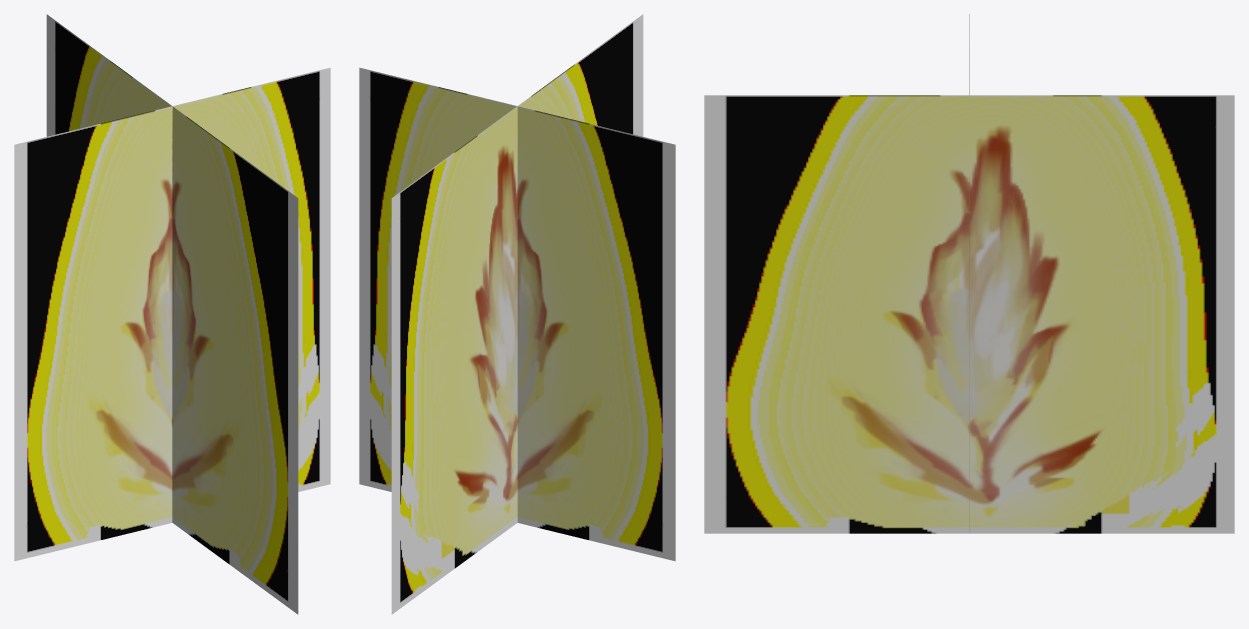
The model's file is FX_Shoot_2.FBX.
3 views of the same model, side by side, from view 1: azimuth 30°, elevation 25°; view 2: azimuth 150°, elevation 25°; view 3: azimuth 270°, elevation 25° (orthographic). The views are drawn at different scales.
Visible parts, largest first — view 1: Plane2; view 2: Plane2; view 3: Plane2.
Boxes of the visible parts, box(x1,y1,x2,y2) form: Plane2: box(14, 14, 330, 614); Plane2: box(359, 14, 675, 614); Plane2: box(704, 14, 1234, 533).
Bounding box in the file's own units: 60.32 × 75.94 × 83.18.
1 material, 1 textured.
